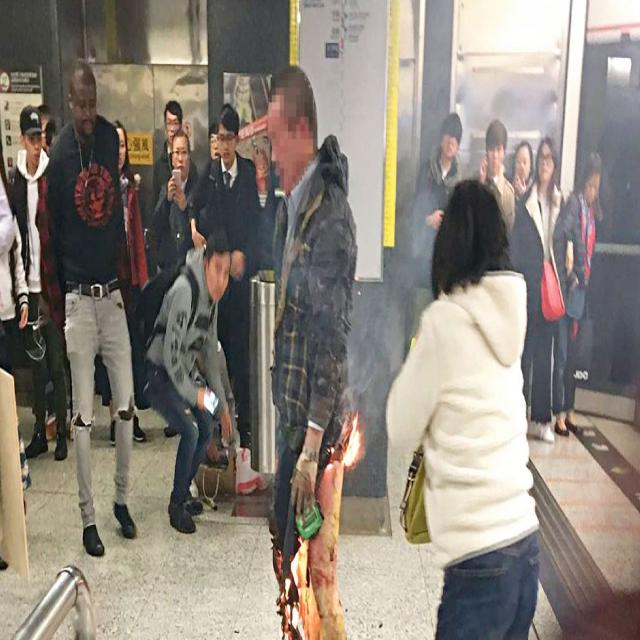body: (378, 173, 544, 639), (263, 59, 362, 640), (42, 54, 140, 560), (134, 217, 237, 538), (5, 101, 74, 461), (197, 102, 261, 450), (514, 134, 568, 446), (553, 142, 606, 436), (106, 118, 150, 448), (407, 110, 464, 352), (1, 132, 30, 520), (150, 98, 199, 278), (150, 127, 198, 275), (475, 117, 516, 237), (130, 170, 156, 278), (196, 120, 222, 215), (260, 154, 277, 276), (510, 140, 536, 218), (36, 99, 68, 150)
